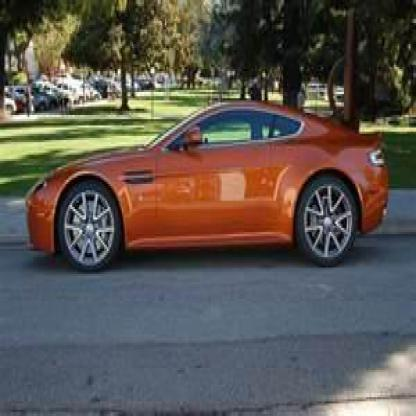Vehicle: (29, 94, 390, 278)
